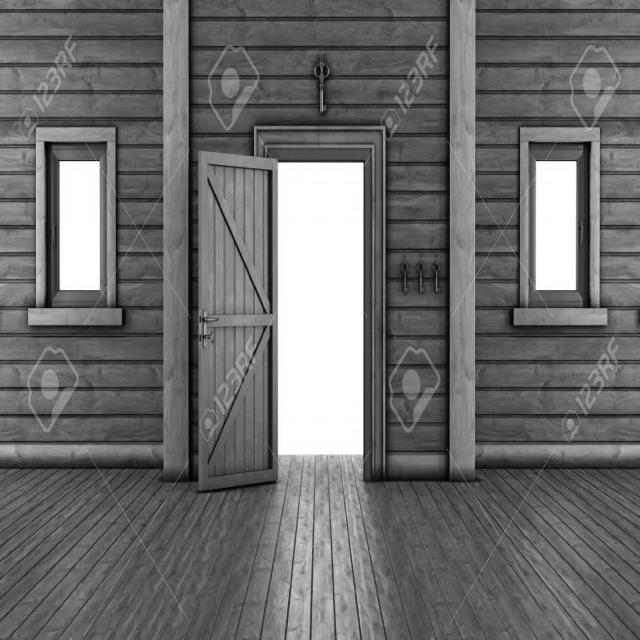door: (195, 150, 278, 491)
